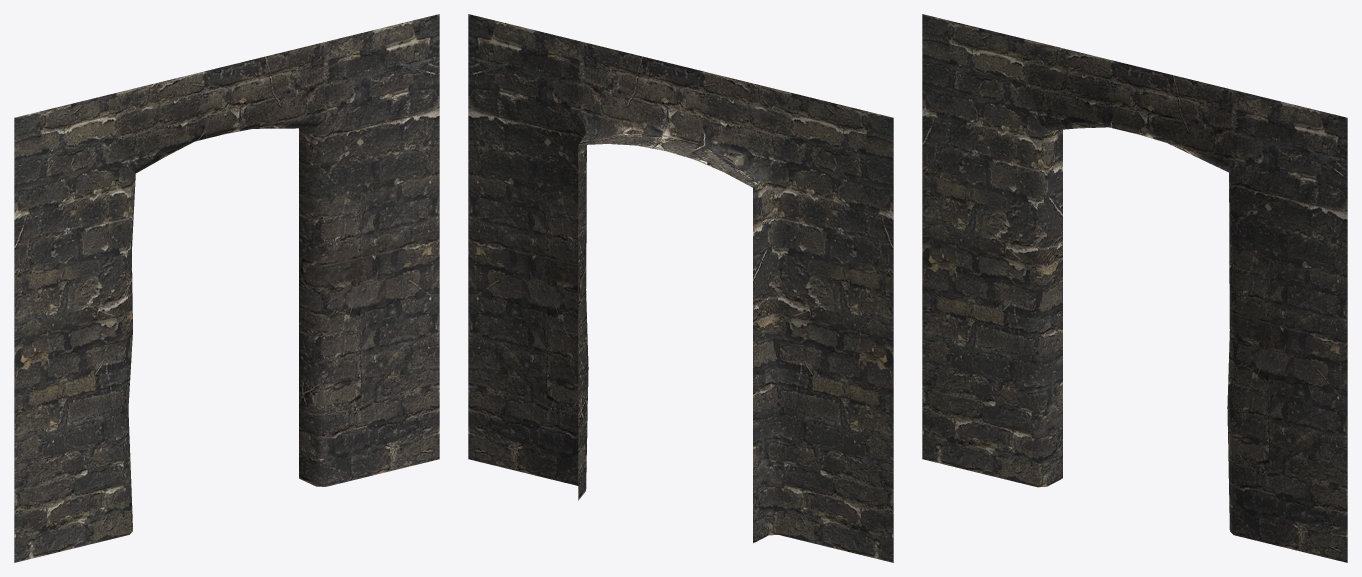
Rendered from factory_facade_doorway.DAE.
3 views of the same model, side by side, from view 1: azimuth 30°, elevation 25°; view 2: azimuth 150°, elevation 25°; view 3: azimuth 330°, elevation 25° (orthographic).
Visible parts, largest first — view 1: Object049; view 2: Object049; view 3: Object049.
Boxes of the visible parts, bbox=[...] form: Object049: bbox=[14, 14, 439, 562]; Object049: bbox=[468, 14, 893, 562]; Object049: bbox=[922, 14, 1347, 562].
Size of the model in its own units: 4 by 4 by 0.25.
